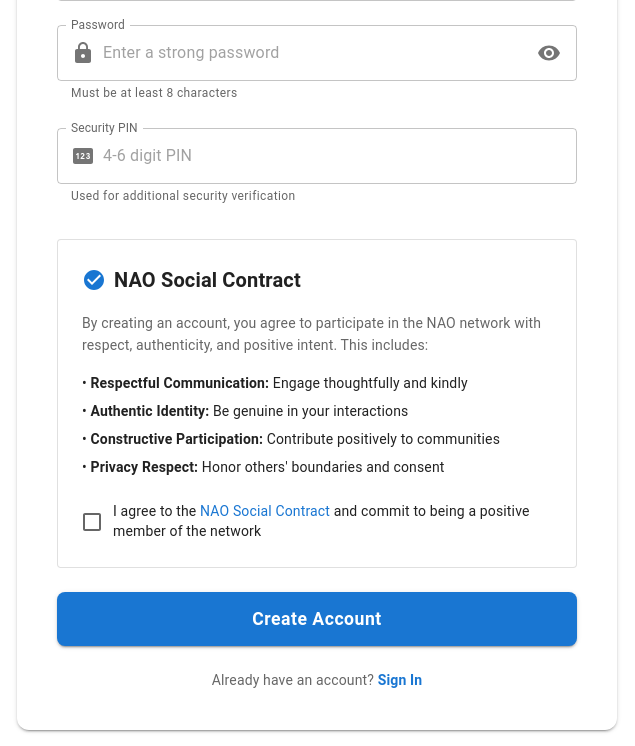
Test: SignUpPage › shows validation errors for empty required fields
(page scrolled)
Click the button "Create Account": (317, 619) x1=57 y1=592 x2=577 y2=646
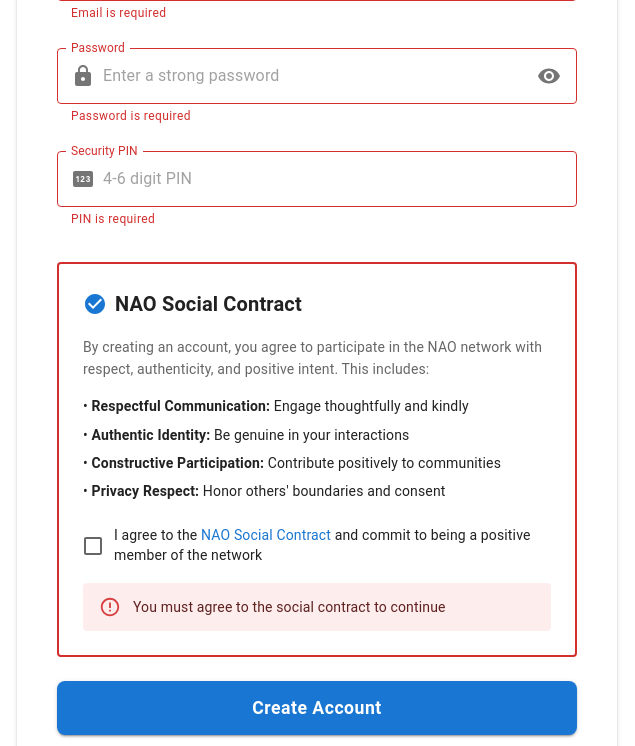
Now the text "Email is required" is shown, box x1=71 y1=6 x2=166 y2=20
Now the text "Password is required" is shown, box x1=71 y1=109 x2=191 y2=123
Now the text "PIN is required" is shown, box x1=71 y1=212 x2=155 y2=226
